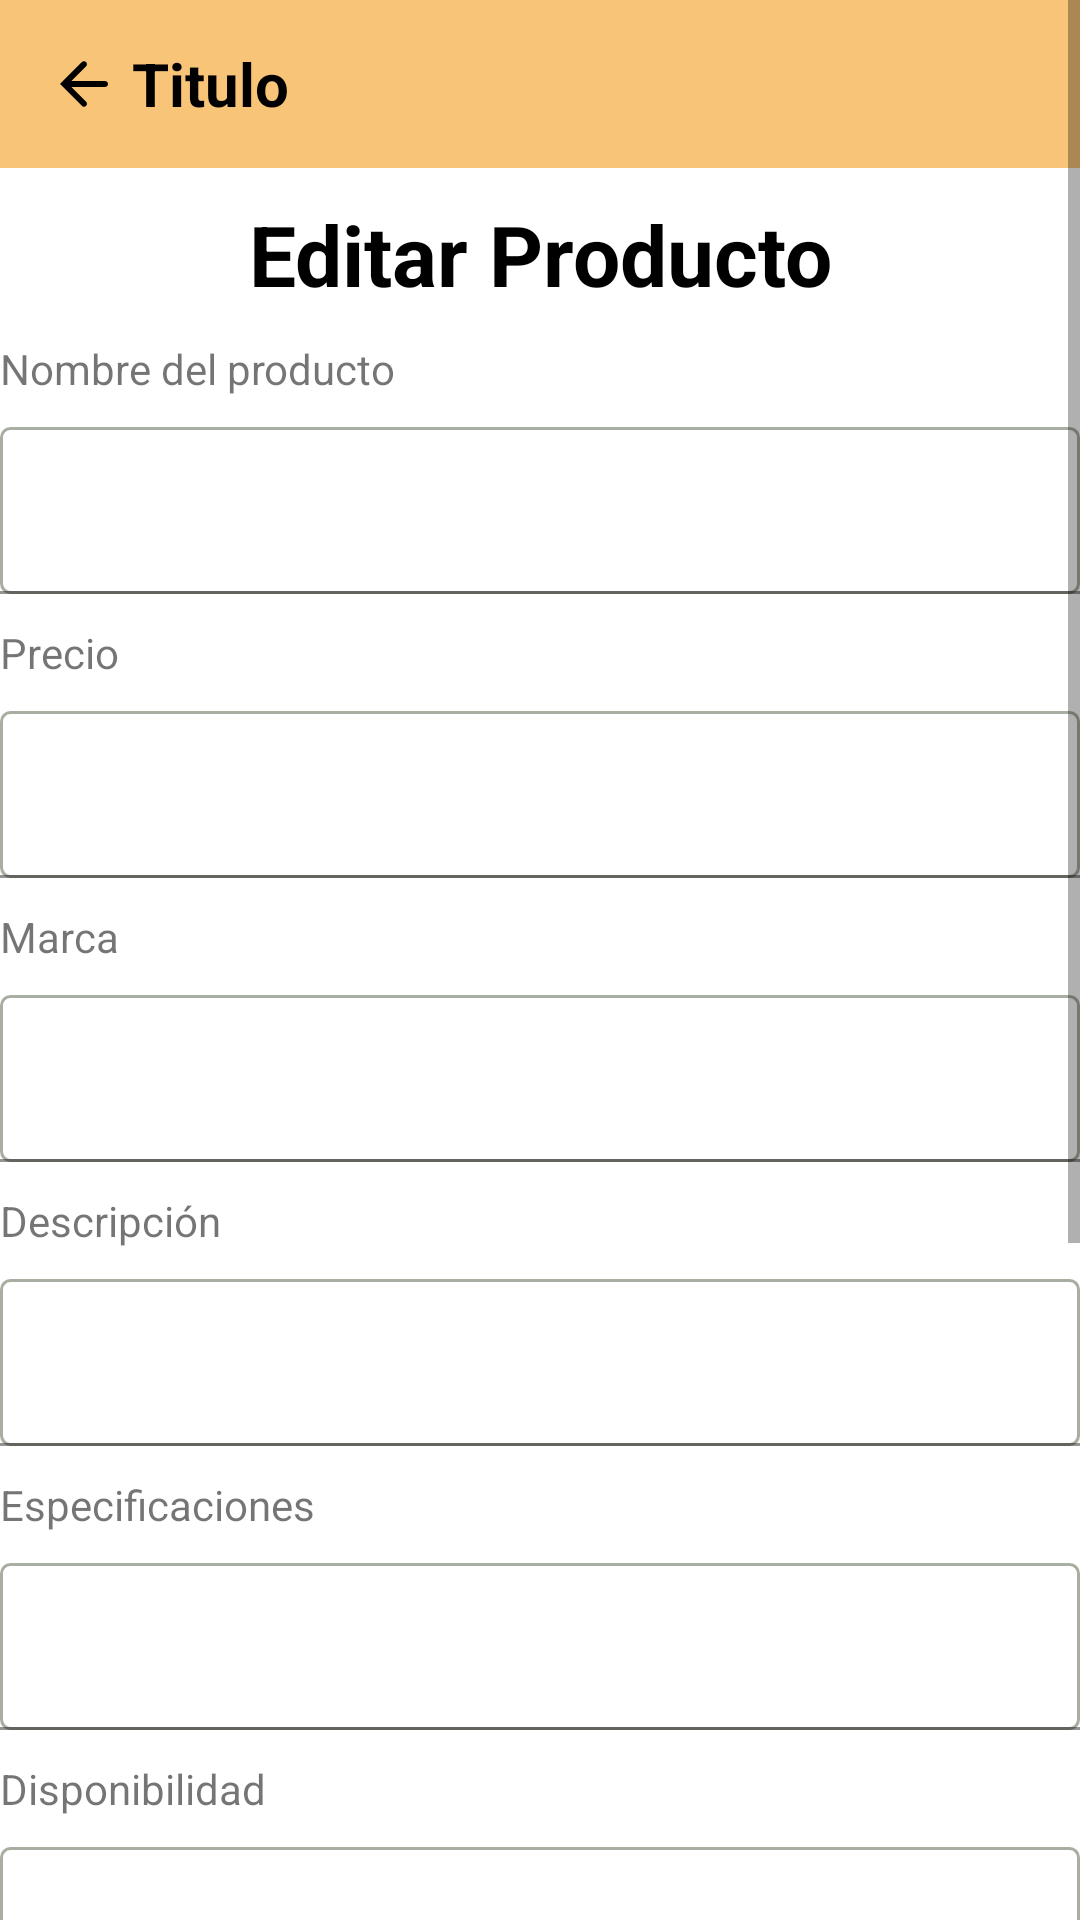

Named icons in this screenshot (1080px x 1920px) and their bounding boxes, (x1, y1, x2, y2):
arrow left: (60, 61, 108, 107)
